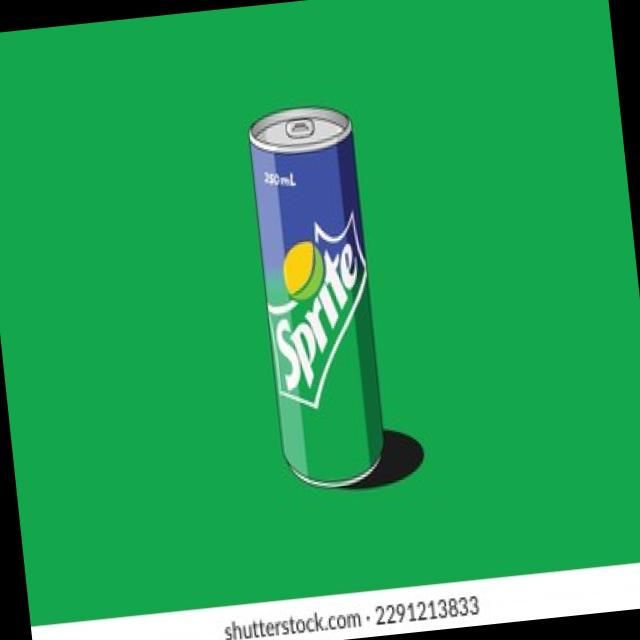sprite: (236, 103, 400, 507)
